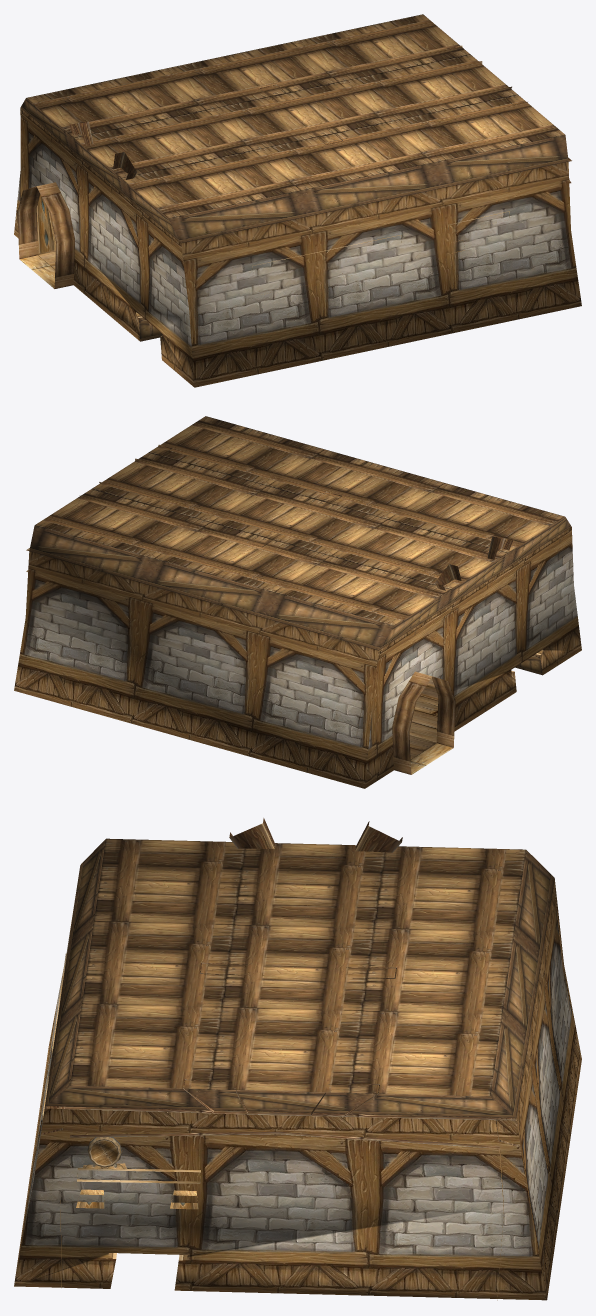
File: stormwind_108.fbx
The picture shows the model from 3 angles, top to bottom: view 1: azimuth 30°, elevation 25°; view 2: azimuth 150°, elevation 25°; view 3: azimuth 270°, elevation 25°; orthographic projection. The views are drawn at different scales.
Visible parts, largest first — view 1: stormwind_108_87, stormwind_108_55, stormwind_108_56, stormwind_108_49, stormwind_108_53; view 2: stormwind_108_87, stormwind_108_55, stormwind_108_56, stormwind_108_49, stormwind_108_51, stormwind_108_53; view 3: stormwind_108_55, stormwind_108_87, stormwind_108_56, stormwind_108_53, stormwind_108_54.
Part boxes in pixels (bbox=[...]): stormwind_108_87: bbox=[14, 108, 581, 387]; stormwind_108_55: bbox=[26, 14, 564, 218]; stormwind_108_56: bbox=[20, 98, 568, 341]; stormwind_108_49: bbox=[17, 182, 74, 288]; stormwind_108_53: bbox=[20, 45, 571, 303]; stormwind_108_87: bbox=[14, 527, 581, 788]; stormwind_108_55: bbox=[35, 416, 564, 625]; stormwind_108_56: bbox=[29, 517, 571, 675]; stormwind_108_49: bbox=[392, 671, 455, 774]; stormwind_108_51: bbox=[409, 678, 438, 759]; stormwind_108_53: bbox=[26, 444, 561, 774]; stormwind_108_55: bbox=[70, 838, 525, 1096]; stormwind_108_87: bbox=[14, 875, 581, 1300]; stormwind_108_56: bbox=[45, 839, 554, 1117]; stormwind_108_53: bbox=[39, 818, 576, 1300]; stormwind_108_54: bbox=[39, 953, 200, 1260].
Bounding box in the file's own units: 17.15 × 7.09 × 15.91.
